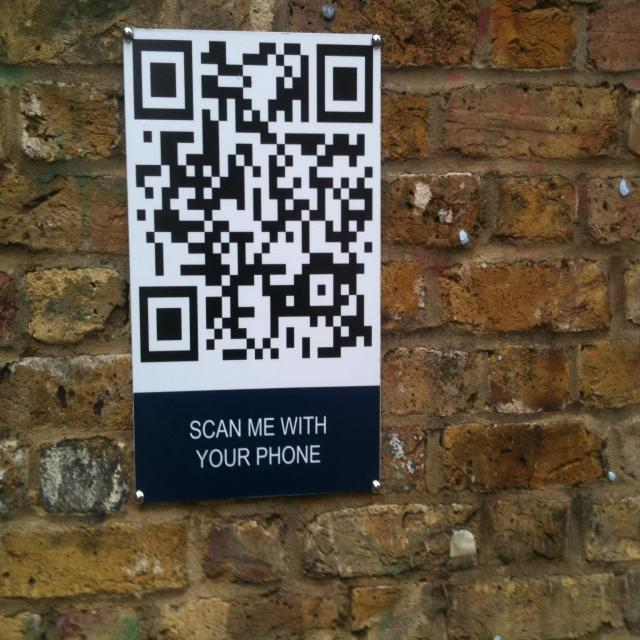qrcode: (133, 40, 374, 363)
